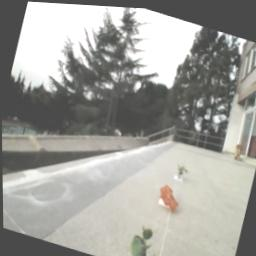herb: (123, 221, 163, 256), (174, 161, 190, 179)
wild: (155, 181, 185, 214)
